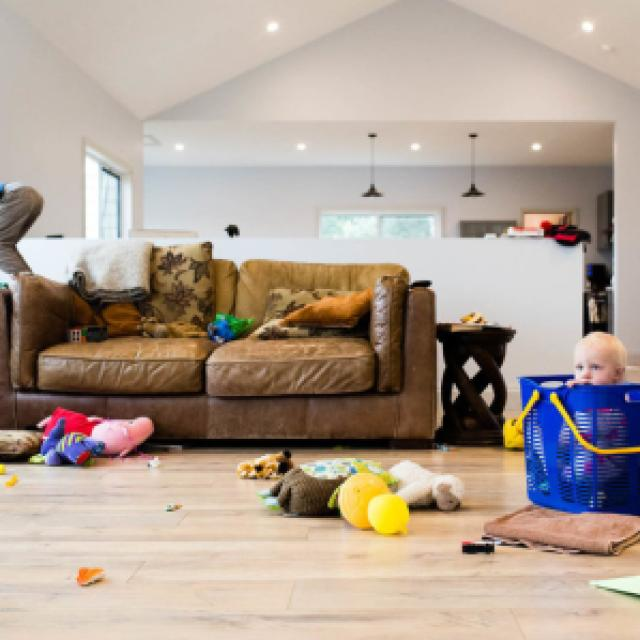mess: (0, 394, 482, 596)
